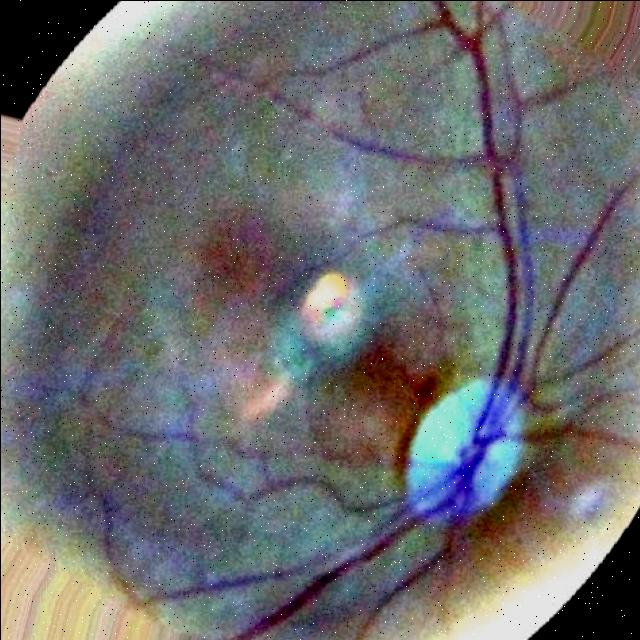Macula: (213, 219, 334, 318)
Nerves: (431, 0, 535, 434), (230, 499, 461, 640), (180, 445, 409, 521)
Optic Disk: (407, 378, 531, 524)
